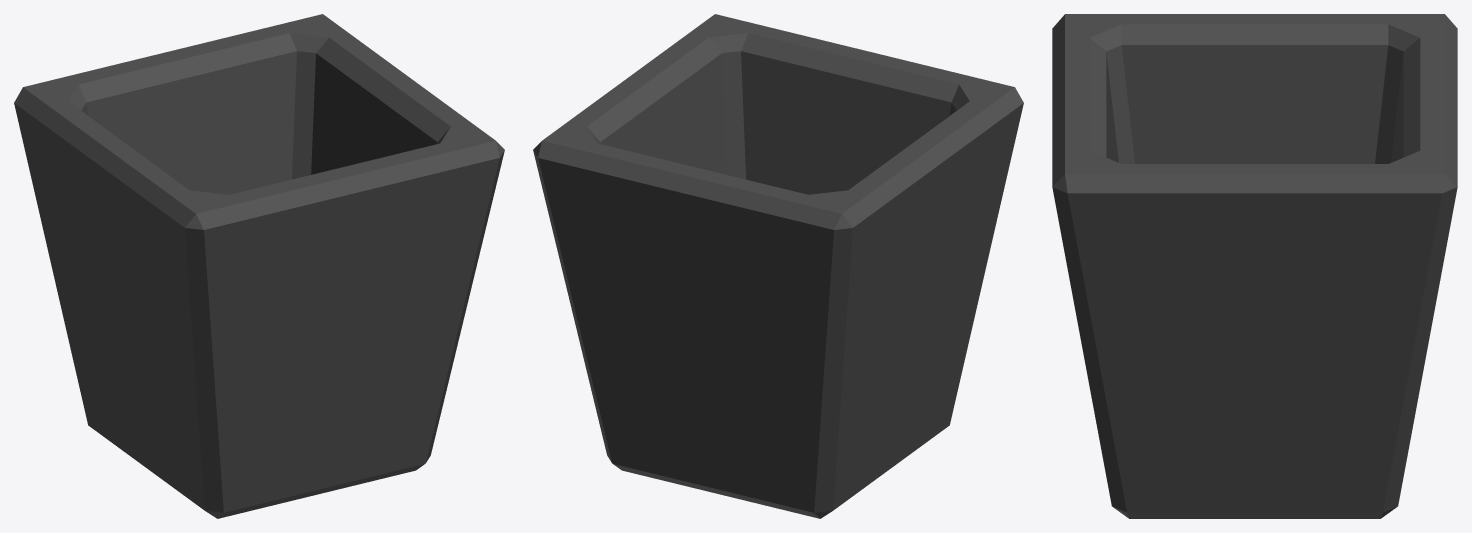
Rendered from Props_Garbage.fbx.
3 views of the same model, side by side, from view 1: azimuth 30°, elevation 25°; view 2: azimuth 150°, elevation 25°; view 3: azimuth 270°, elevation 25° (orthographic). The views are drawn at different scales.
Visible parts, largest first — view 1: Props_Garbage; view 2: Props_Garbage; view 3: Props_Garbage.
Part boxes in pixels (x1,y1,x2,y2): Props_Garbage: (14,14,504,518); Props_Garbage: (533,14,1023,518); Props_Garbage: (1052,14,1457,518).
Bounding box in the file's own units: 33.99 × 34.38 × 33.99.
